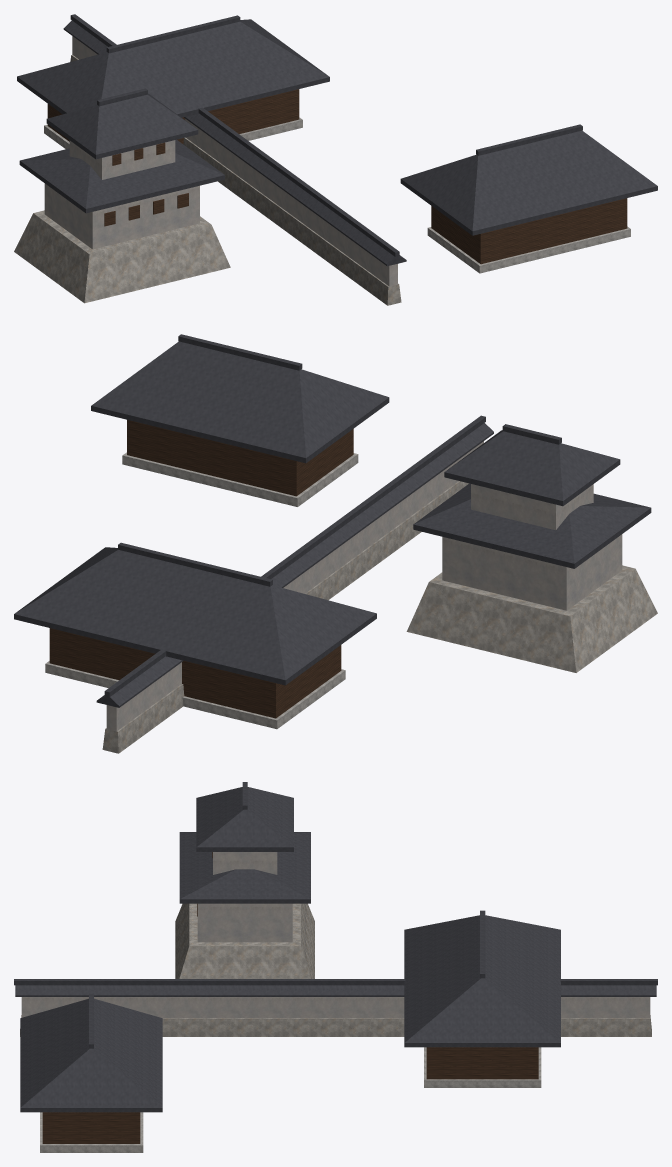
The model's file is inner.glb.
3 renders of one model, top to bottom at view 1: azimuth 30°, elevation 25°; view 2: azimuth 150°, elevation 25°; view 3: azimuth 270°, elevation 25°, orthographic. The views are drawn at different scales.
Visible parts, largest first — view 1: inner_tile_ibushi, inner_stone_wall, inner_plaster_white_streaks, inner_wood_dark, inner_stone_granite; view 2: inner_tile_ibushi, inner_stone_wall, inner_wood_dark, inner_plaster_white_streaks, inner_stone_granite; view 3: inner_tile_ibushi, inner_plaster_white_streaks, inner_stone_wall, inner_wood_dark, inner_stone_granite.
Part boxes in pixels (bbox=[...]): inner_tile_ibushi: bbox=[17, 14, 657, 266]; inner_stone_wall: bbox=[14, 54, 401, 305]; inner_plaster_white_streaks: bbox=[44, 36, 397, 286]; inner_wood_dark: bbox=[47, 89, 627, 264]; inner_stone_granite: bbox=[44, 117, 630, 273]; inner_tile_ibushi: bbox=[14, 334, 651, 707]; inner_stone_wall: bbox=[102, 481, 657, 753]; inner_wood_dark: bbox=[49, 420, 353, 718]; inner_plaster_white_streaks: bbox=[106, 441, 622, 731]; inner_stone_granite: bbox=[45, 452, 358, 729]; inner_tile_ibushi: bbox=[14, 782, 657, 1112]; inner_plaster_white_streaks: bbox=[21, 852, 650, 1017]; inner_stone_wall: bbox=[20, 903, 651, 1036]; inner_wood_dark: bbox=[42, 852, 538, 1143]; inner_stone_granite: bbox=[40, 1047, 541, 1152].
Size of the model in its own units: 40.6 by 12.88 by 46.1.
Materials: 5 (5 with a texture image).
